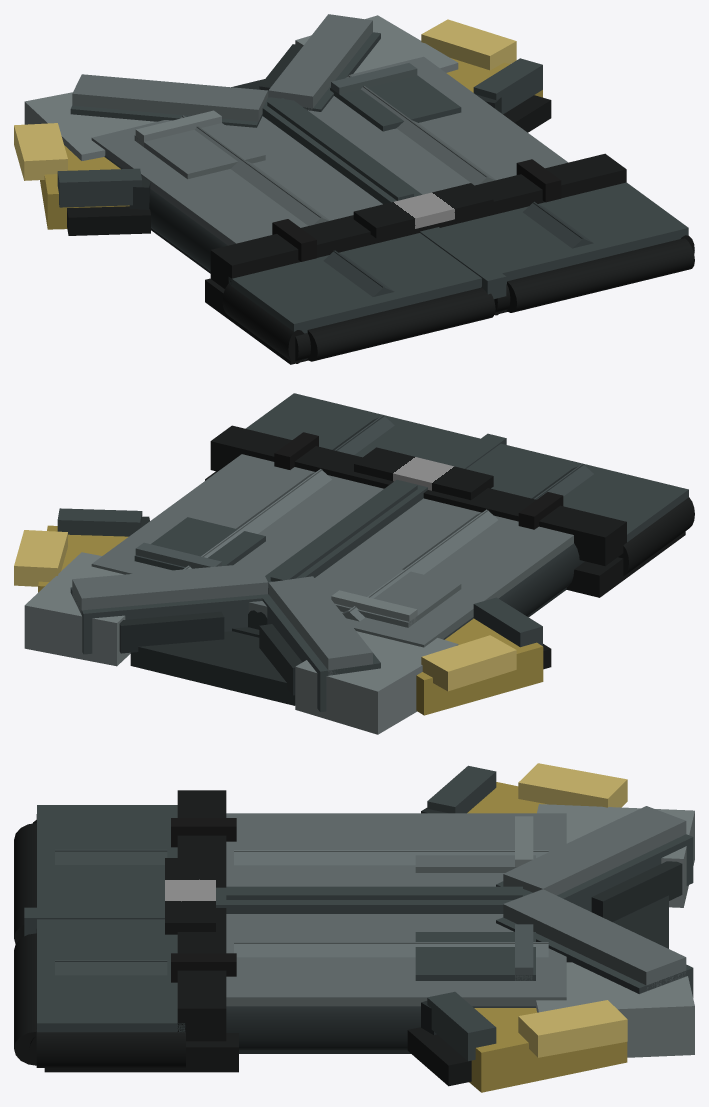
The model's file is CMU3DCMJumpsuitColonistWorldCloud.glb.
3 views of the same model, one above another, from view 1: azimuth 30°, elevation 25°; view 2: azimuth 150°, elevation 25°; view 3: azimuth 270°, elevation 25° (orthographic). The views are drawn at different scales.
Parts seen in each view (by area): view 1: left shirt front continuous cloth panel, left folded trouser panel continuous cloth panel, right shirt front continuous cloth panel, right folded trouser panel continuous cloth panel, continuous attached waist belt, right turned trouser hem, left turned trouser hem, left turned collar face, right turned collar face, original small waist clasp, right flat chest pocket cloth, left flat chest pocket cloth (+27 smaller); view 2: left shirt front continuous cloth panel, right shirt front continuous cloth panel, continuous attached waist belt, left folded trouser panel continuous cloth panel, left continuous shoulder cloth, right folded trouser panel continuous cloth panel, recessed inner neck facing, right turned collar face, right continuous shoulder cloth, left turned collar face, left sloping sleeve cloth, original small waist clasp (+25 smaller); view 3: right shirt front continuous cloth panel, left shirt front continuous cloth panel, right folded trouser panel continuous cloth panel, left folded trouser panel continuous cloth panel, right shirt front right turned edge, continuous attached waist belt, right turned collar face, left turned collar face, right continuous shoulder cloth, right sloping sleeve cloth, right folded trouser panel right turned edge, right flat chest pocket cloth (+29 smaller).
Part boxes in pixels (x1,y1,x2,y2): left shirt front continuous cloth panel: (91,116,382,245); left folded trouser panel continuous cloth panel: (228,233,481,359); right shirt front continuous cloth panel: (308,56,568,194); right folded trouser panel continuous cloth panel: (440,182,688,311); continuous attached waist belt: (210,153,626,288); right turned trouser hem: (506,238,694,312); left turned trouser hem: (307,287,495,361); left turned collar face: (72,74,267,121); right turned collar face: (268,14,372,110); original small waist clasp: (353,183,493,238); right flat chest pocket cloth: (330,75,461,131); left flat chest pocket cloth: (134,123,265,179); left shirt front continuous cloth panel: (258,498,573,647); right shirt front continuous cloth panel: (91,454,383,612); continuous attached waist belt: (210,425,626,566); left folded trouser panel continuous cloth panel: (466,443,688,542); left continuous shoulder cloth: (295,631,458,734); right folded trouser panel continuous cloth panel: (245,393,480,464); recessed inner neck facing: (130,631,295,705); right turned collar face: (72,563,267,614); right continuous shoulder cloth: (24,552,130,666); left turned collar face: (268,576,372,675); left sloping sleeve cloth: (416,618,543,715); original small waist clasp: (354,447,493,500); right shirt front continuous cloth panel: (226,914,566,1006); left shirt front continuous cloth panel: (226,813,566,886); right folded trouser panel continuous cloth panel: (37,919,185,1032); left folded trouser panel continuous cloth panel: (37,805,177,907); right shirt front right turned edge: (226,1006,535,1050); continuous attached waist belt: (177,790,226,1041); right turned collar face: (503,889,686,990); left turned collar face: (503,806,686,895); right continuous shoulder cloth: (536,962,694,1057); right sloping sleeve cloth: (469,1008,627,1092); right folded trouser panel right turned edge: (36,1028,185,1067); right flat chest pocket cloth: (415,932,535,980).
Bounding box in the file's own units: 0.3961 × 0.05 × 0.4159.
10 materials, 1 textured.
